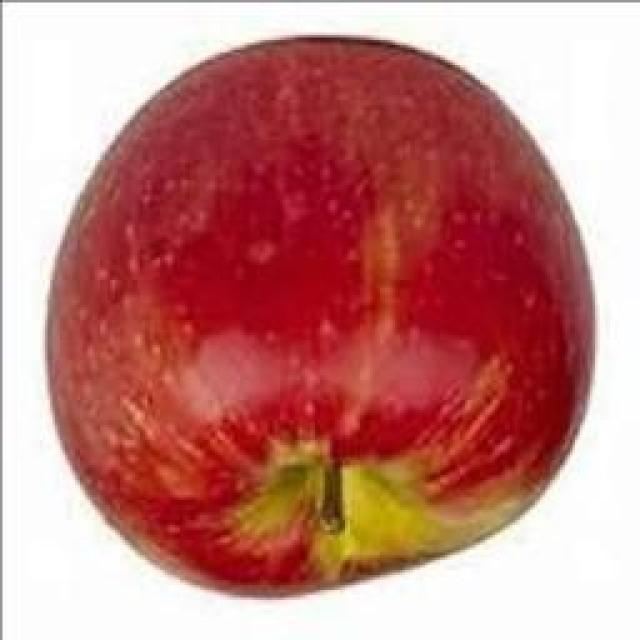apple: (44, 33, 598, 593)
